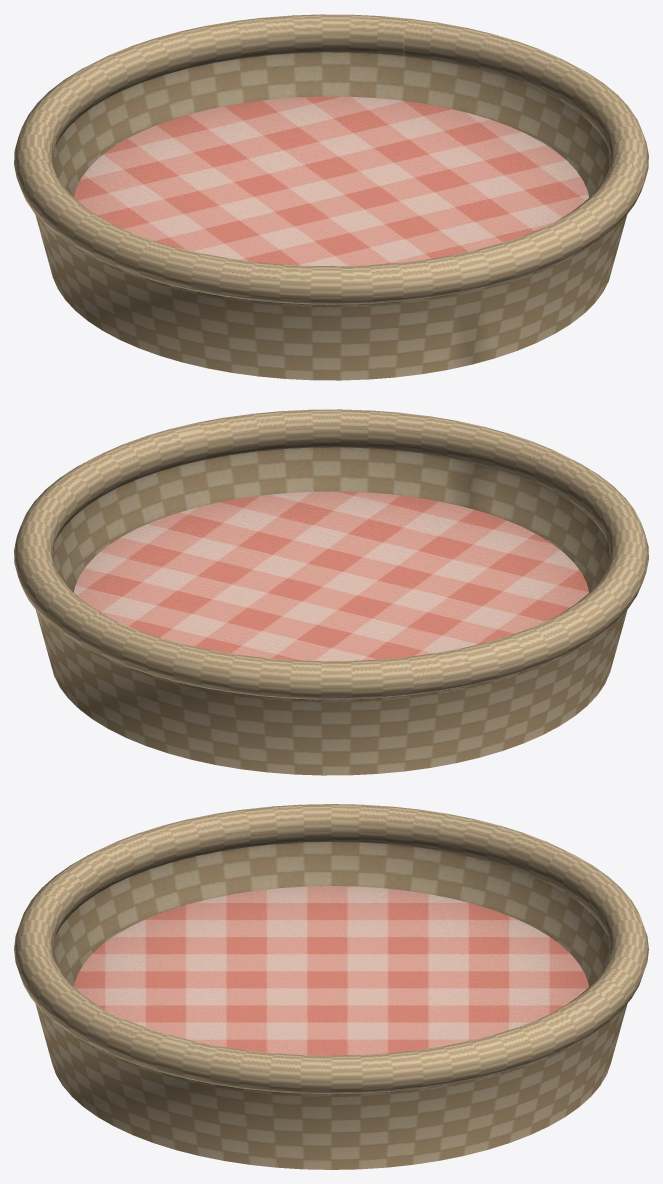
File: basket_bed.glb
3 views of the same model, one above another, from view 1: azimuth 30°, elevation 25°; view 2: azimuth 150°, elevation 25°; view 3: azimuth 270°, elevation 25° (orthographic).
Visible parts, largest first — view 1: basket_bed; view 2: basket_bed; view 3: basket_bed.
Boxes of the visible parts, x1,y1,x2,y2 form: basket_bed: [14, 14, 648, 380]; basket_bed: [14, 409, 648, 775]; basket_bed: [14, 804, 648, 1169].
Bounding box in the file's own units: 1.13 × 0.2333 × 1.13.
1 material, 1 textured.
